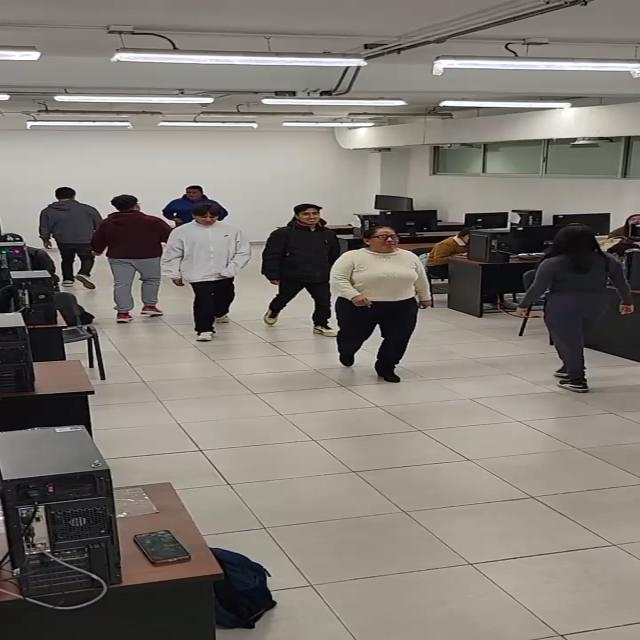Persona: (525, 224, 632, 393), (331, 218, 431, 384), (161, 200, 250, 345), (262, 198, 332, 339), (97, 190, 161, 323), (38, 182, 97, 290)
